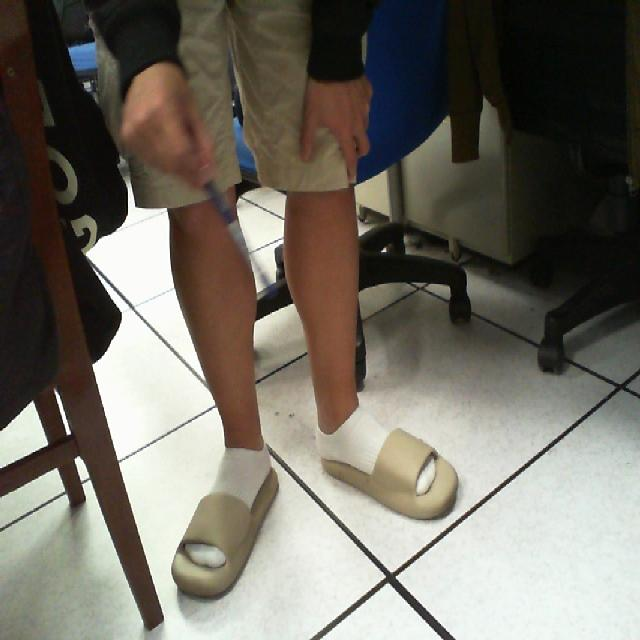Pen: (198, 159, 297, 324)
